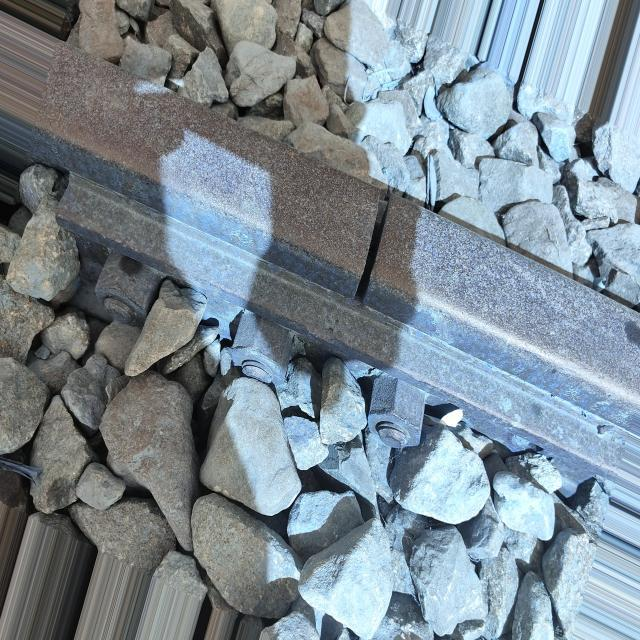Defective Joint: (54, 174, 617, 517)
